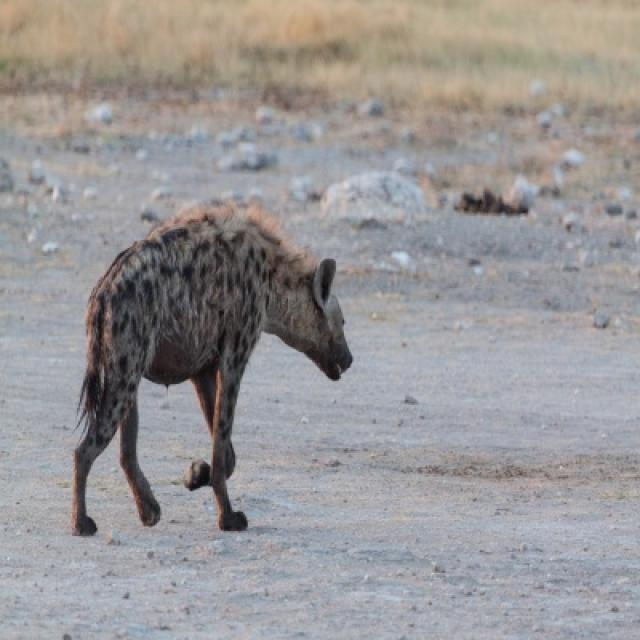hyena: (70, 205, 355, 539)
